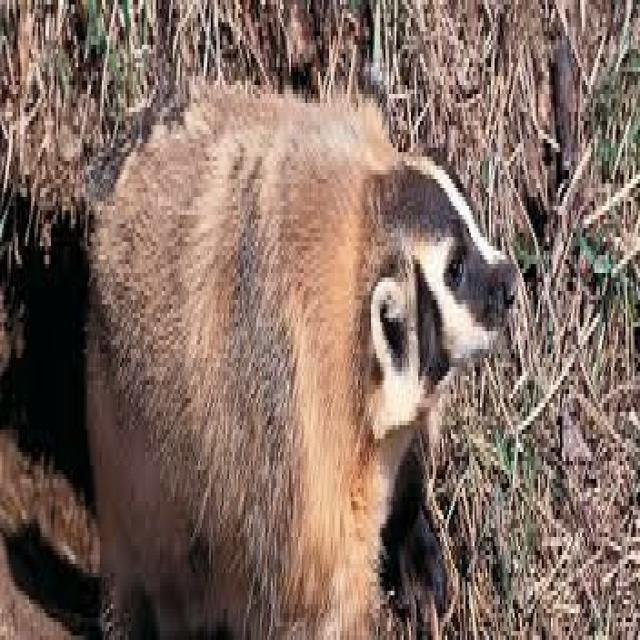badger: (85, 85, 516, 636)
